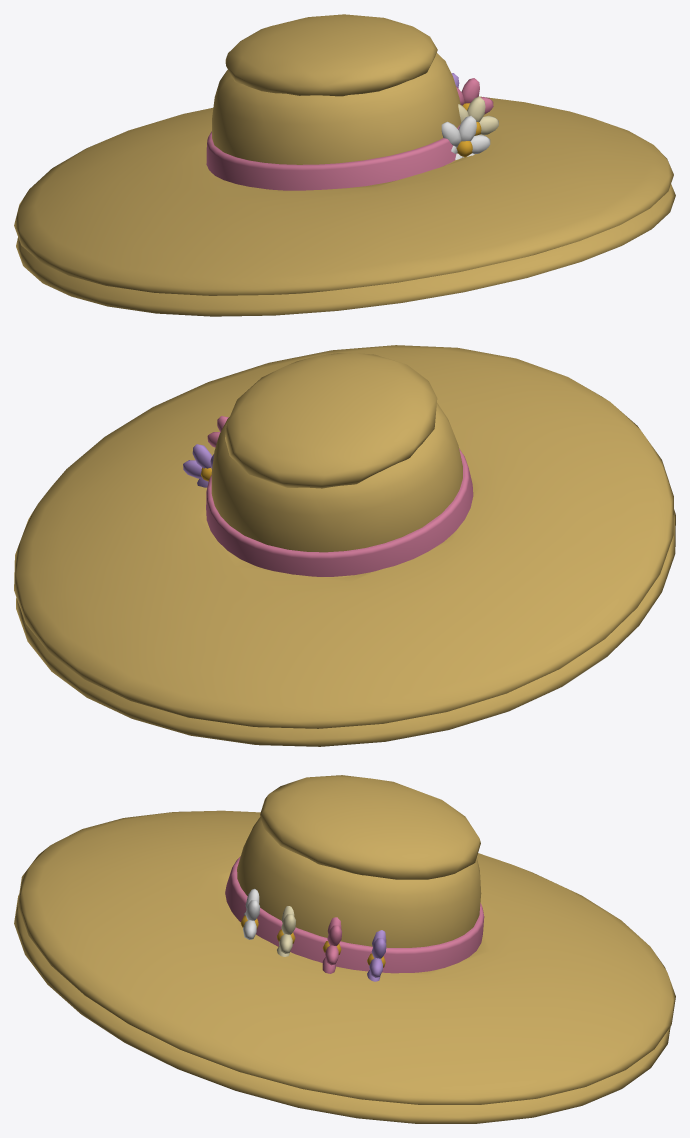
Rendered from outfit_garden.glb.
The picture shows the model from 3 angles, top to bottom: view 1: azimuth 30°, elevation 25°; view 2: azimuth 150°, elevation 25°; view 3: azimuth 270°, elevation 25°; orthographic projection. The views are drawn at different scales.
Visible parts, largest first — view 1: outfit_garden_m, outfit_garden_f; view 2: outfit_garden_m, outfit_garden_f; view 3: outfit_garden_m, outfit_garden_f.
Part boxes in pixels (left/top/right/bottom): outfit_garden_m: left=14, top=14, right=673, bottom=295; outfit_garden_f: left=16, top=157, right=675, bottom=316; outfit_garden_m: left=14, top=345, right=673, bottom=728; outfit_garden_f: left=16, top=509, right=675, bottom=746; outfit_garden_m: left=17, top=775, right=675, bottom=1104; outfit_garden_f: left=14, top=895, right=670, bottom=1123.
Size of the model in its own units: 0.7624 by 0.2966 by 0.7874.
